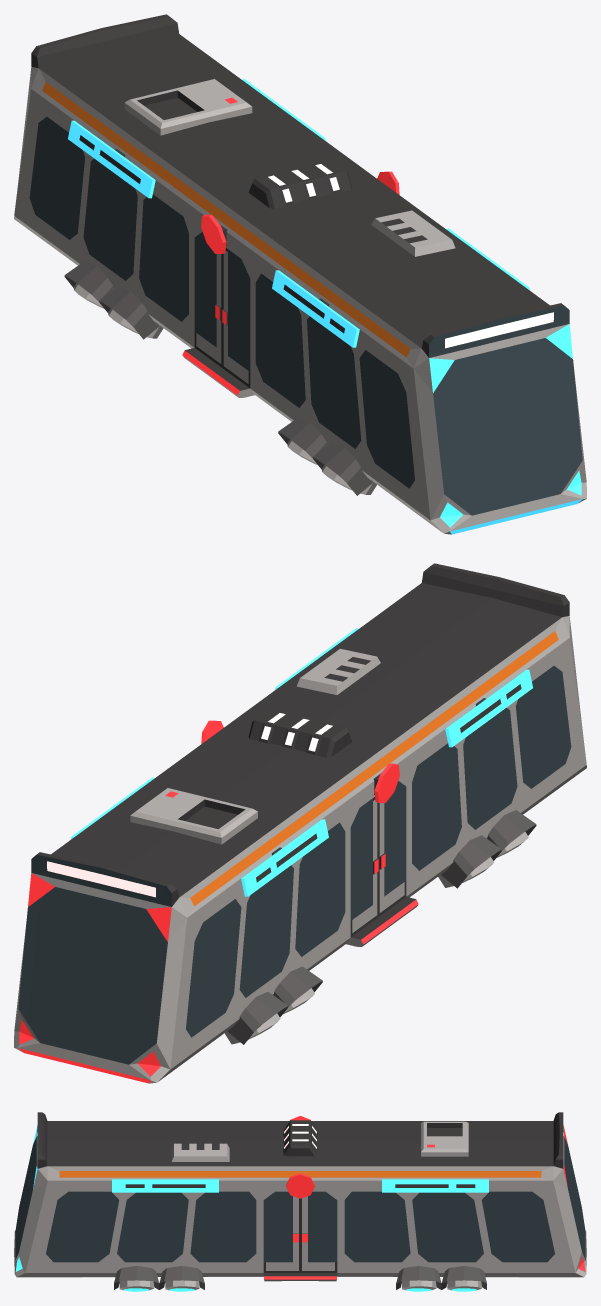
Rendered from scifi_scifi-public-transport.fbx.
3 renders of one model, top to bottom at view 1: azimuth 30°, elevation 25°; view 2: azimuth 150°, elevation 25°; view 3: azimuth 270°, elevation 25°, orthographic. The views are drawn at different scales.
Parts seen in each view (by area): view 1: scifi_scifi_public_transport; view 2: scifi_scifi_public_transport; view 3: scifi_scifi_public_transport.
Boxes of the visible parts, box(x1,y1,x2,y2) form: scifi_scifi_public_transport: box(14, 14, 586, 534); scifi_scifi_public_transport: box(14, 563, 586, 1083); scifi_scifi_public_transport: box(14, 1112, 586, 1291).
Size of the model in its own units: 53.23 by 54.06 by 200.
